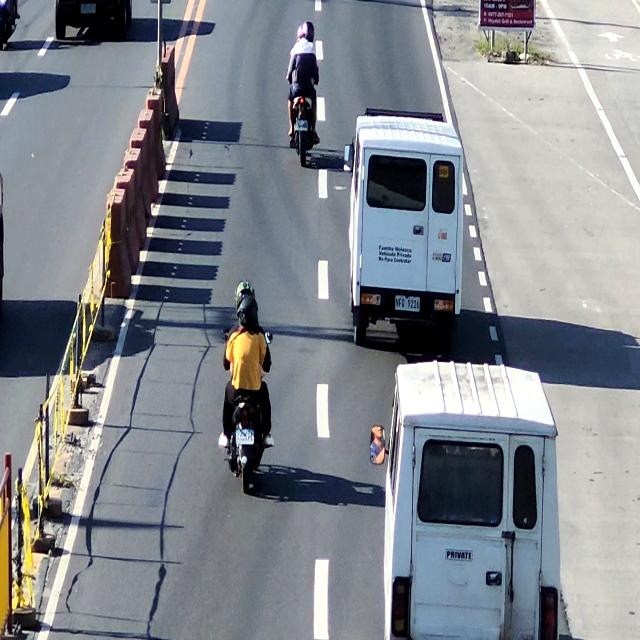Car: (369, 356, 563, 640), (352, 102, 467, 358)
License-Plate: (394, 291, 421, 314), (232, 428, 256, 446), (293, 120, 309, 136)
Motorcycle: (217, 275, 278, 501), (288, 19, 320, 167)
